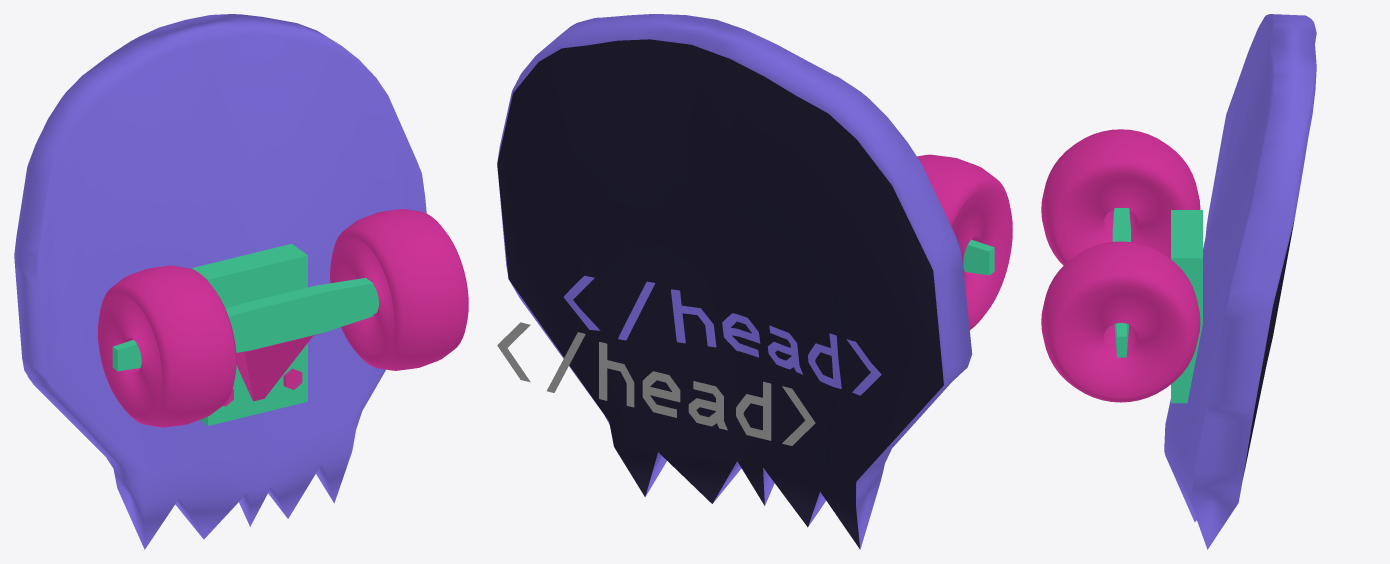
The model's file is skullboard.gltf.
3 views of the same model, side by side, from view 1: azimuth 30°, elevation 25°; view 2: azimuth 150°, elevation 25°; view 3: azimuth 270°, elevation 25° (orthographic). The views are drawn at different scales.
Visible parts, largest first — view 1: board, wheels, trucks; view 2: board, wheels, Text, trucks; view 3: board, wheels, trucks.
Part boxes in pixels (<box>): board: <box>14,14,426,549</box>; wheels: <box>98,209,468,427</box>; trucks: <box>112,243,378,425</box>; board: <box>497,14,972,549</box>; wheels: <box>917,154,1012,329</box>; Text: <box>497,322,815,445</box>; trucks: <box>963,239,994,275</box>; board: <box>1164,14,1316,549</box>; wheels: <box>1041,129,1200,402</box>; trucks: <box>1112,208,1202,403</box>.
Size of the model in its own units: 1.66 by 1.91 by 1.25.
